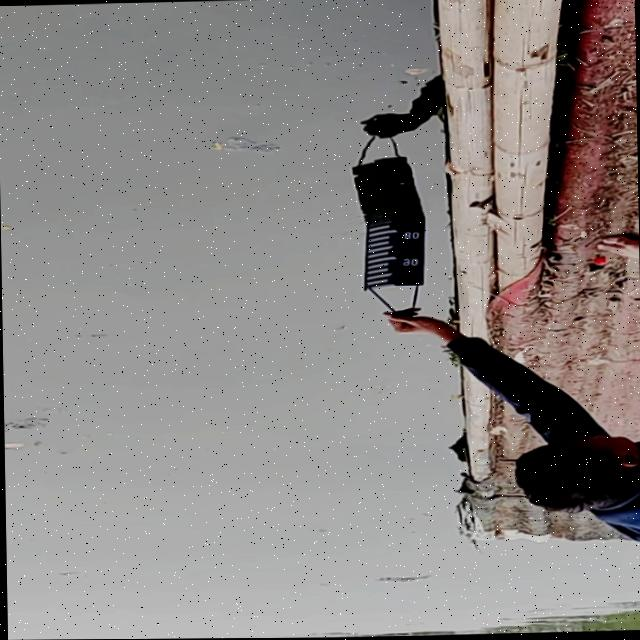water-meter: (346, 194, 436, 297)
